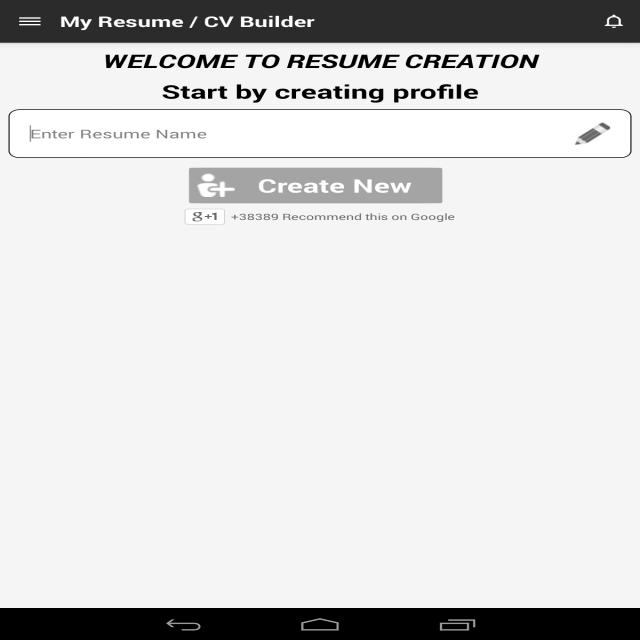Button: (184, 164, 452, 203)
EditText: (9, 107, 627, 158)
ImageButton: (4, 8, 44, 41), (592, 8, 629, 35)
TextView: (99, 48, 569, 105), (49, 7, 323, 42), (188, 204, 468, 223)
